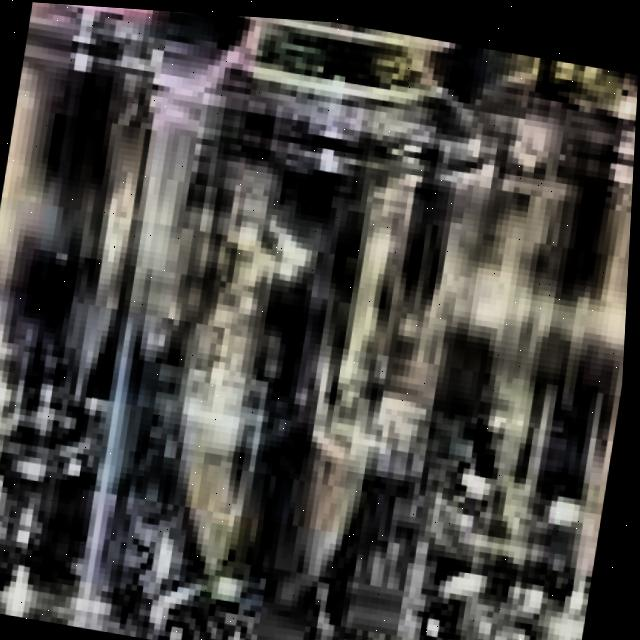plastic: (61, 5, 512, 640), (402, 38, 639, 640), (0, 0, 200, 632)
